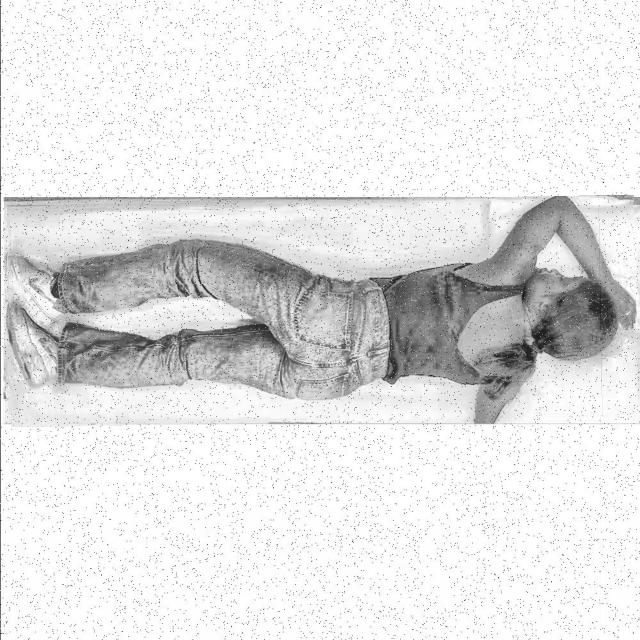Not_Supine: (8, 196, 636, 420)
